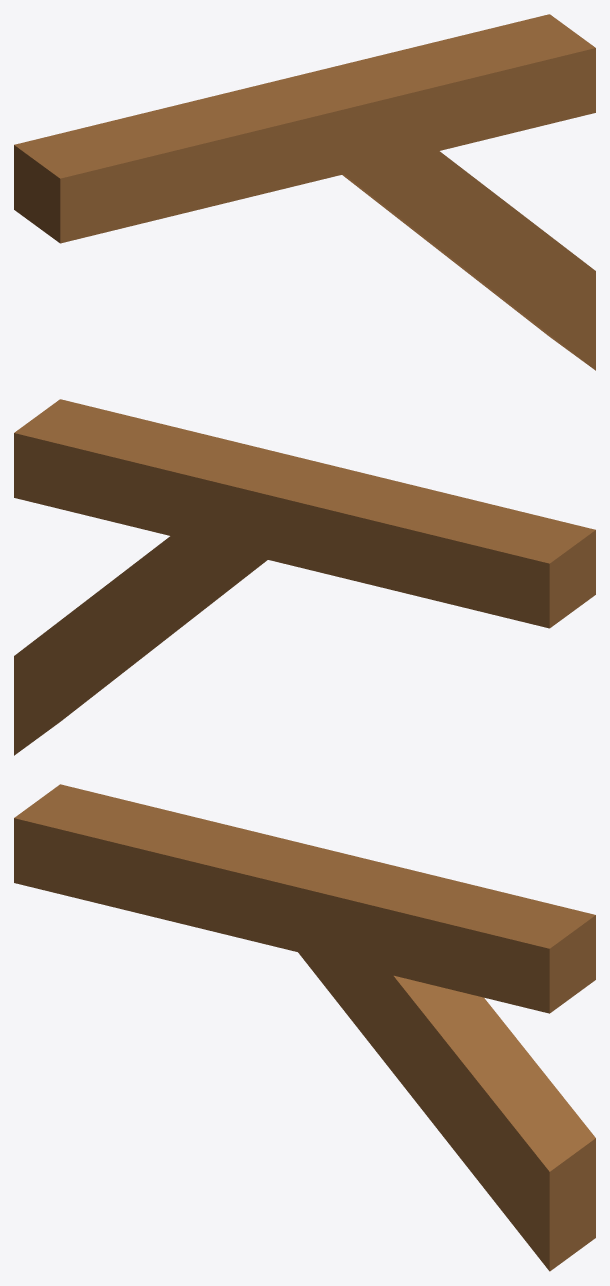
Rendered from Village_LampPost_A.fbx.
The picture shows the model from 3 angles, top to bottom: view 1: azimuth 30°, elevation 25°; view 2: azimuth 150°, elevation 25°; view 3: azimuth 330°, elevation 25°; orthographic projection.
Parts seen in each view (by area): view 1: Village_Wall_LampPost.011; view 2: Village_Wall_LampPost.011; view 3: Village_Wall_LampPost.011.
Part boxes in pixels (x1,y1,x2,y2): Village_Wall_LampPost.011: (14, 14, 595, 370); Village_Wall_LampPost.011: (14, 399, 595, 755); Village_Wall_LampPost.011: (14, 784, 595, 1271).
Bounding box in the file's own units: 52.05 × 29.98 × 7.78.
